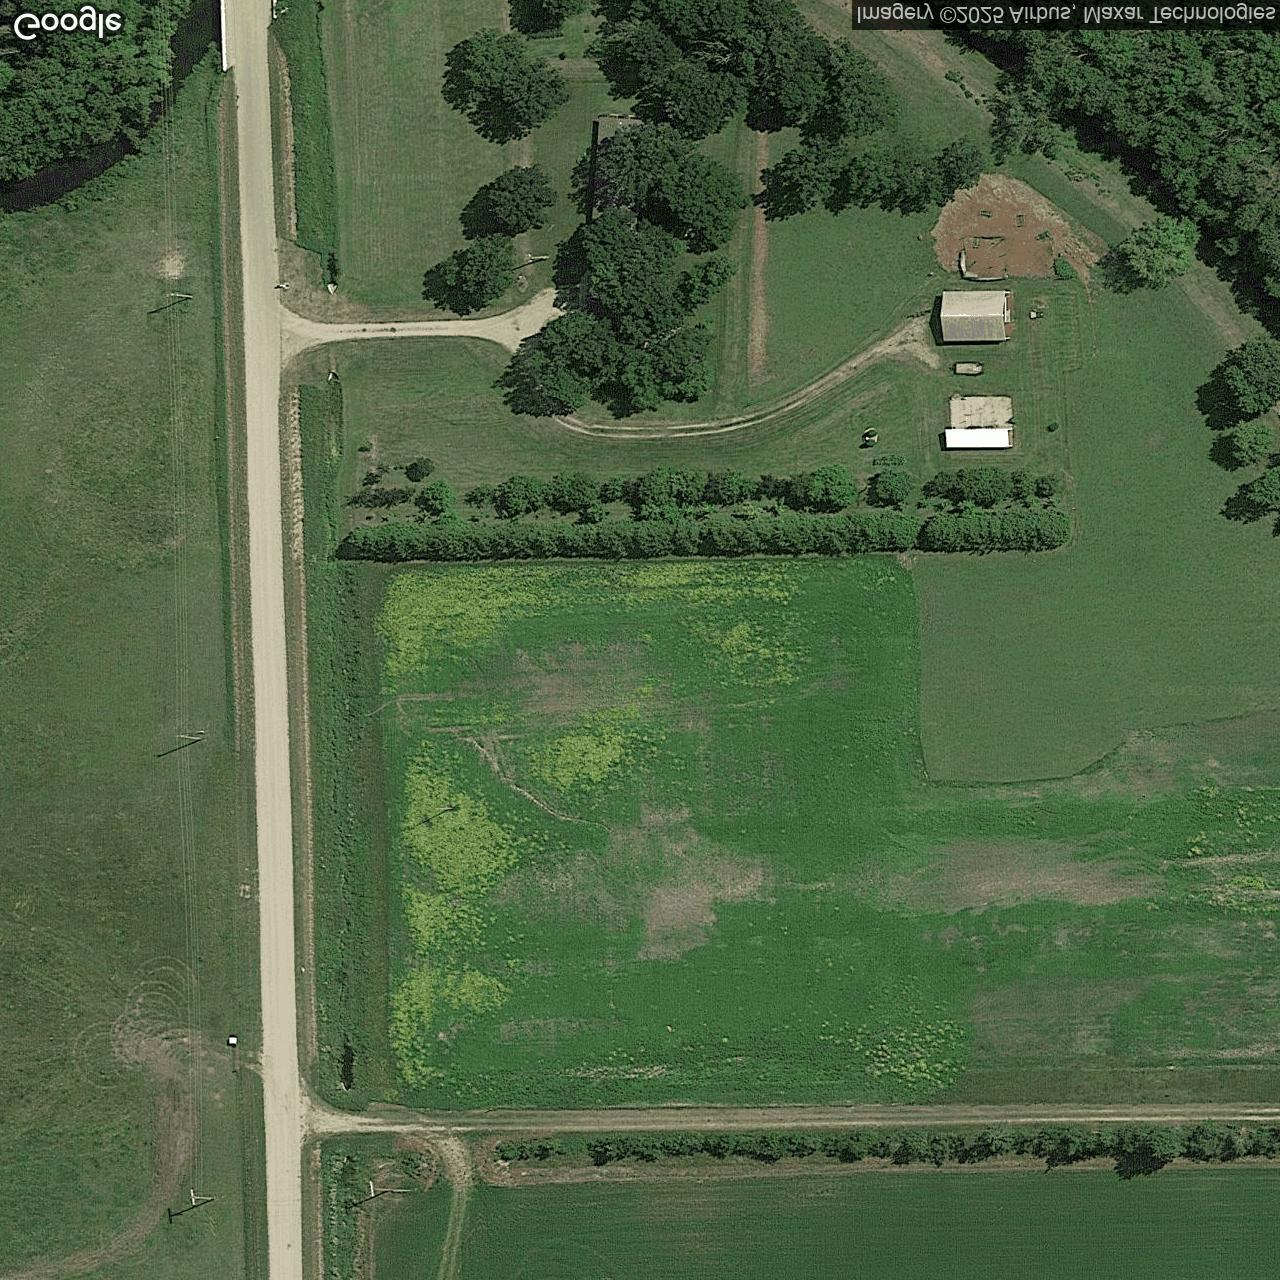House: (940, 291, 1012, 341)
Trailer: (945, 429, 1013, 448)
